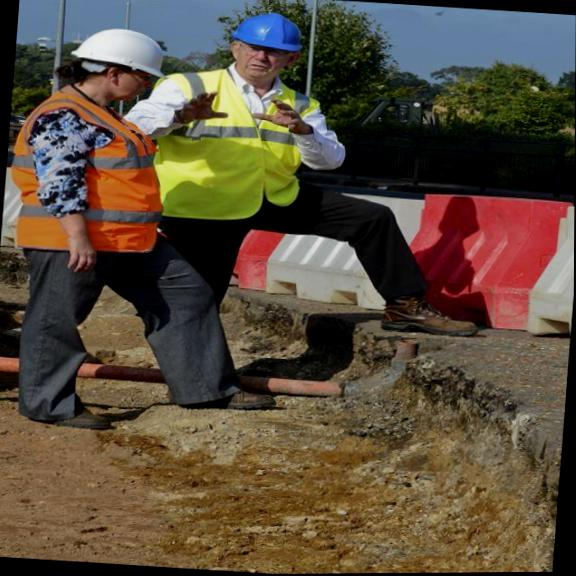safety_vest: (1, 76, 185, 273), (149, 55, 331, 231)
